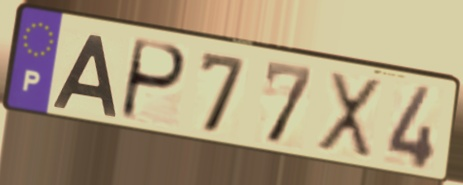4: (385, 83, 439, 172)
7: (261, 58, 317, 150), (195, 49, 252, 138)
A: (49, 32, 119, 121)
P: (116, 36, 189, 126)
X: (313, 68, 384, 164)
